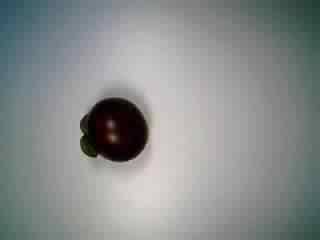mangosteen: (75, 94, 152, 169)
